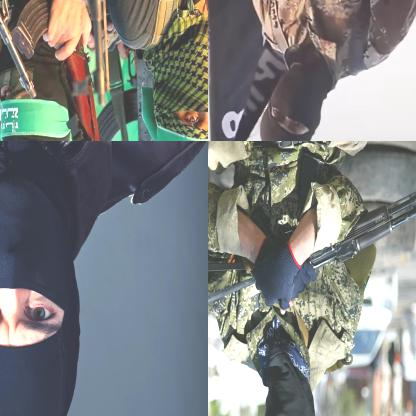rifle: (208, 160, 415, 318), (12, 13, 127, 140), (68, 0, 120, 106), (0, 0, 41, 103), (127, 60, 171, 140)
